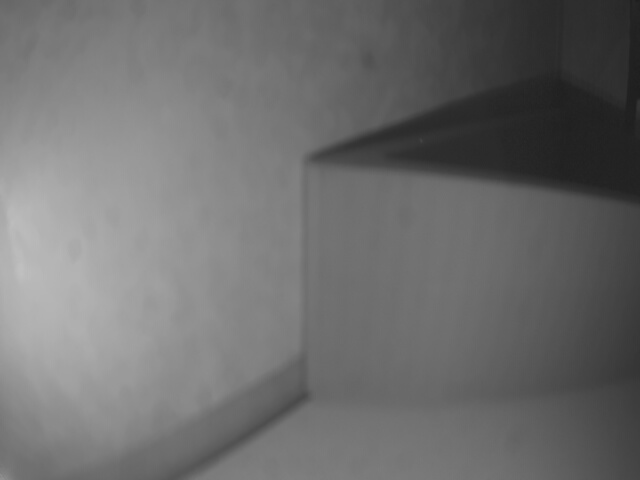Green: (307, 149, 640, 415)
